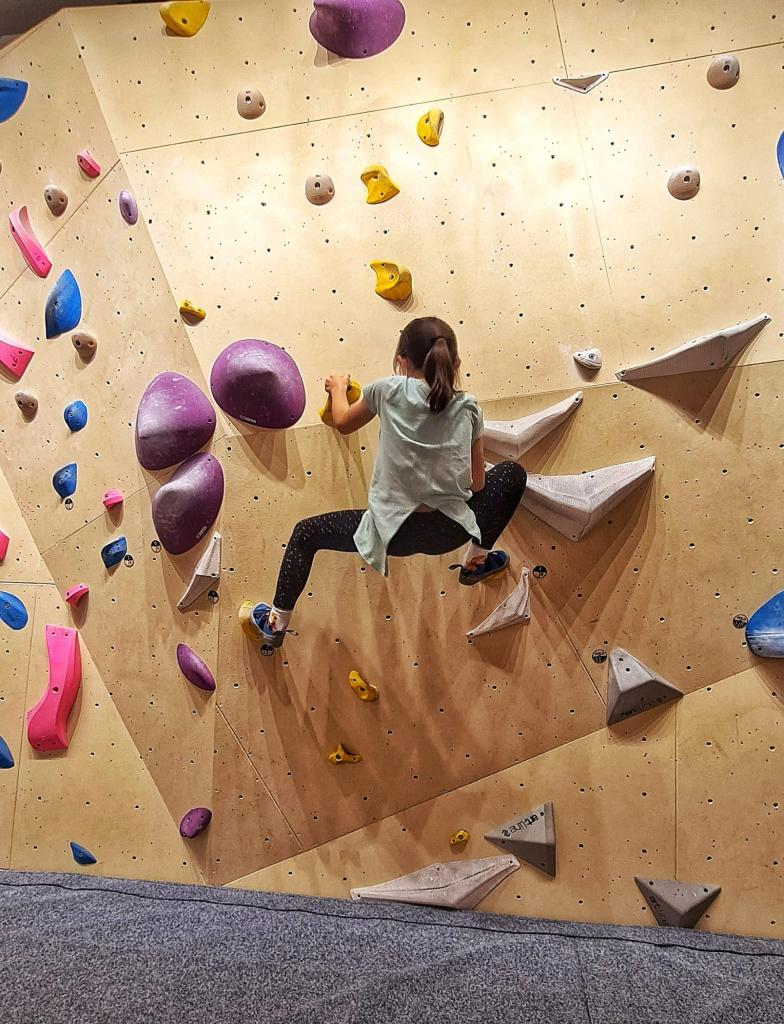downhold: (707, 54, 739, 89), (668, 166, 700, 200), (237, 88, 266, 119), (305, 174, 334, 204), (72, 330, 97, 362), (44, 185, 68, 217)
jib: (449, 829, 469, 847)
jug: (159, 0, 210, 37), (360, 165, 400, 204), (77, 150, 101, 180)
ledge: (521, 456, 655, 542), (616, 314, 771, 382), (483, 391, 583, 459)
pinch: (27, 624, 81, 752), (9, 206, 51, 278), (0, 591, 27, 630), (328, 744, 362, 765), (65, 583, 88, 607), (179, 300, 206, 320)
sidepull: (466, 567, 530, 637), (178, 531, 221, 611), (45, 270, 81, 339), (370, 260, 412, 303), (416, 108, 443, 146), (101, 535, 127, 569), (53, 462, 76, 499), (64, 400, 88, 432)
sloper: (210, 339, 306, 429), (135, 372, 216, 471), (152, 453, 224, 555)
tape: (592, 648, 607, 663), (733, 614, 748, 629), (531, 565, 547, 578), (260, 644, 273, 656), (150, 539, 161, 553), (208, 590, 219, 602), (124, 554, 133, 567)
undercling: (103, 490, 123, 510)
volume: (484, 802, 556, 877)
